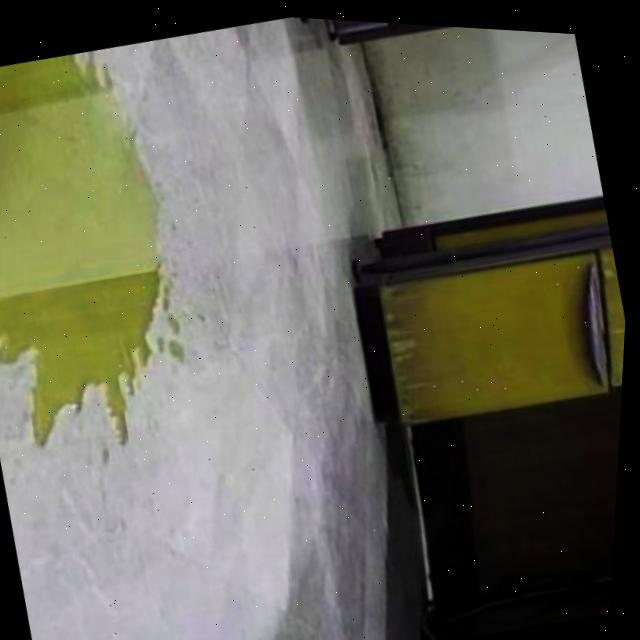spillage: (0, 52, 160, 444)
